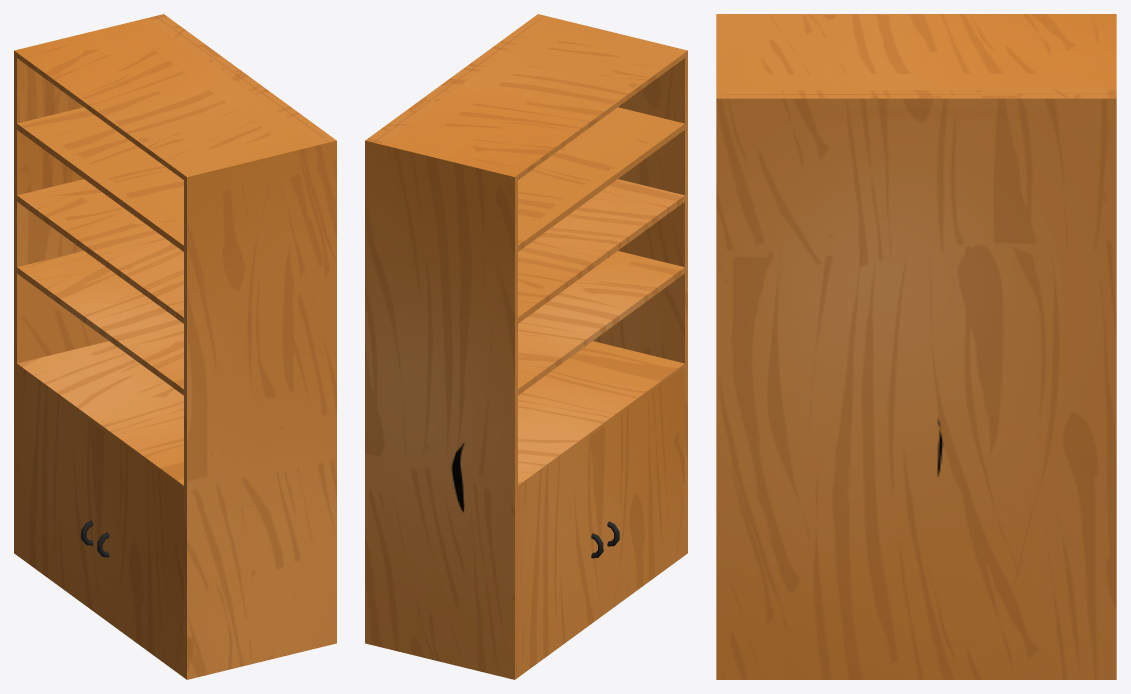
File: Armoire.fbx
3 renders of one model, left to right at view 1: azimuth 30°, elevation 25°; view 2: azimuth 150°, elevation 25°; view 3: azimuth 270°, elevation 25°, orthographic. The views are drawn at different scales.
Parts seen in each view (by area): view 1: Box001; view 2: Box001; view 3: Box001.
Boxes of the visible parts, box(x1,y1,x2,y2) form: Box001: box(14, 14, 336, 679); Box001: box(365, 14, 687, 679); Box001: box(716, 14, 1116, 679).
Size of the model in its own units: 36.34 by 109 by 67.95.
2 materials, 1 textured.
